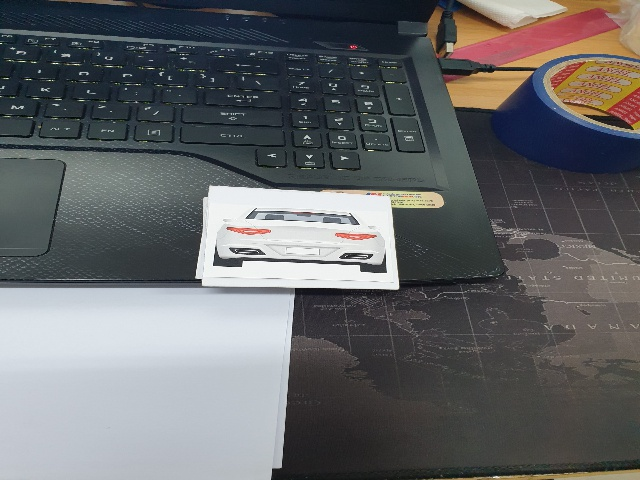Car: (207, 202, 391, 282)
